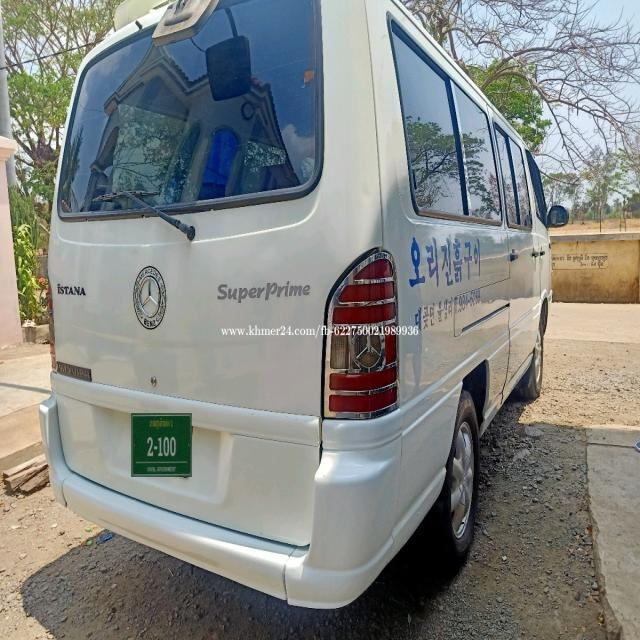Plate Number: (132, 413, 192, 478)
